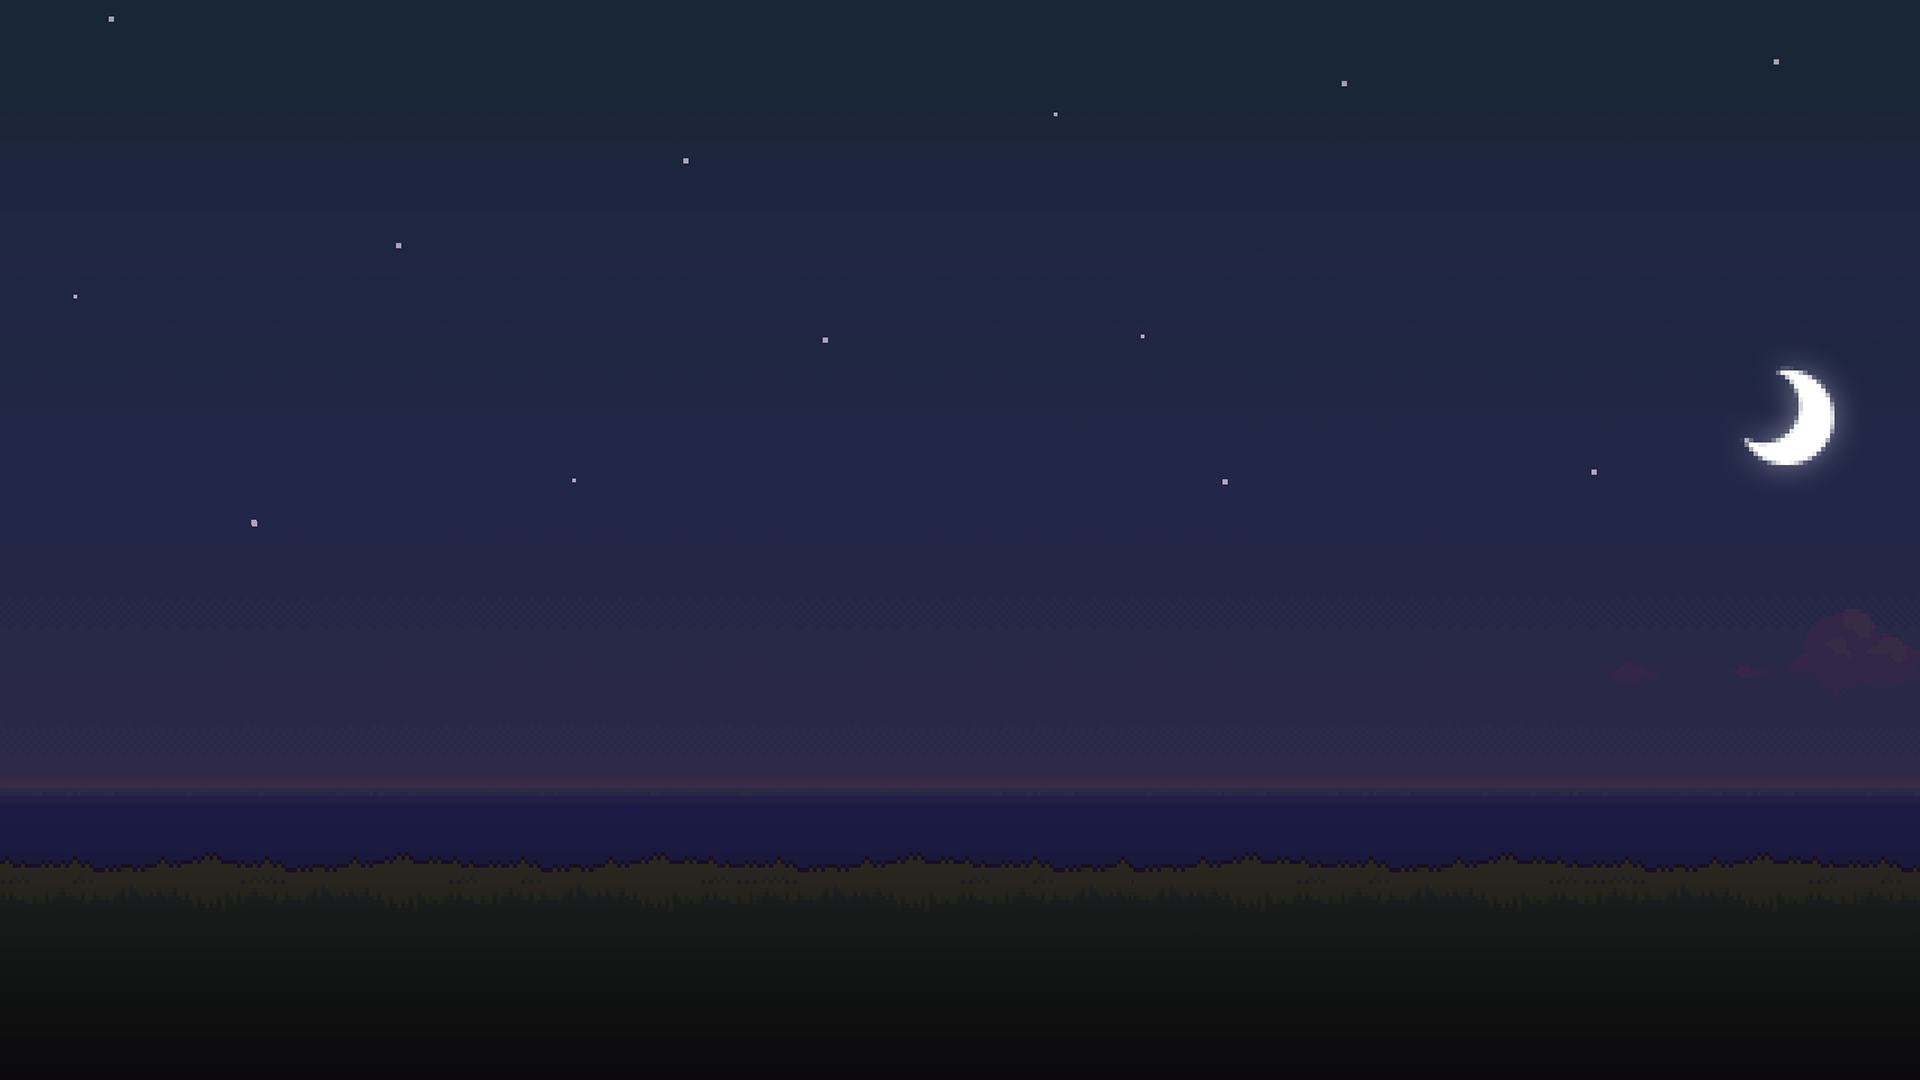beemonster: (931, 320, 978, 373)
character: (934, 604, 1002, 674)
door: (1456, 46, 1553, 156)
flymonster: (553, 136, 600, 189), (1172, 127, 1218, 179)
ground: (150, 568, 372, 866), (15, 464, 145, 864), (377, 781, 690, 866), (1545, 812, 1909, 868)
ground_empty: (7, 870, 1913, 1079)
ground_grass: (1398, 164, 1902, 202), (517, 479, 910, 526), (829, 687, 1222, 733), (219, 280, 578, 323), (1131, 357, 1596, 390), (667, 195, 1112, 225), (1445, 553, 1801, 587)
littlemonster: (741, 796, 789, 851), (407, 651, 455, 704), (1172, 615, 1218, 667)
monster: (1638, 480, 1685, 533), (173, 505, 215, 551), (642, 422, 684, 468), (506, 709, 549, 756)
shootmonster: (866, 120, 914, 173), (785, 414, 832, 467), (220, 218, 266, 272), (278, 505, 324, 558), (1724, 102, 1770, 154)
smallmonster: (1305, 278, 1352, 331), (415, 220, 458, 266), (1629, 112, 1669, 158)
wallmonster: (951, 127, 998, 179), (783, 117, 829, 170)
window: (1, 244, 545, 1069)
